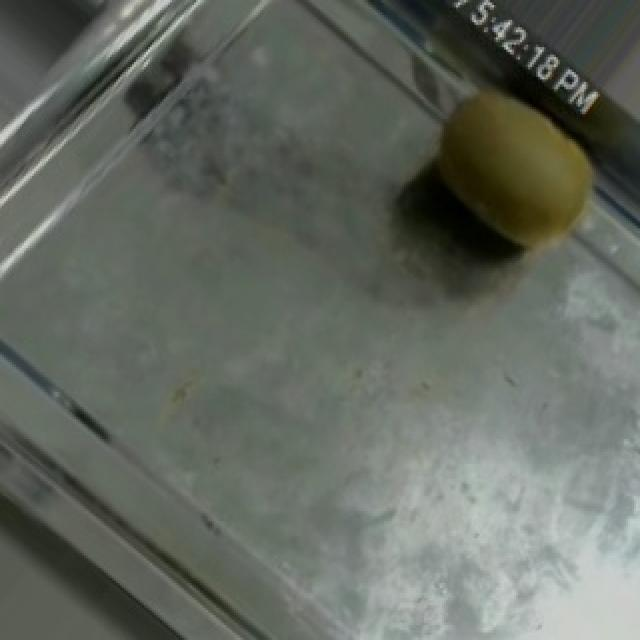Fruit: (426, 42, 638, 288)
